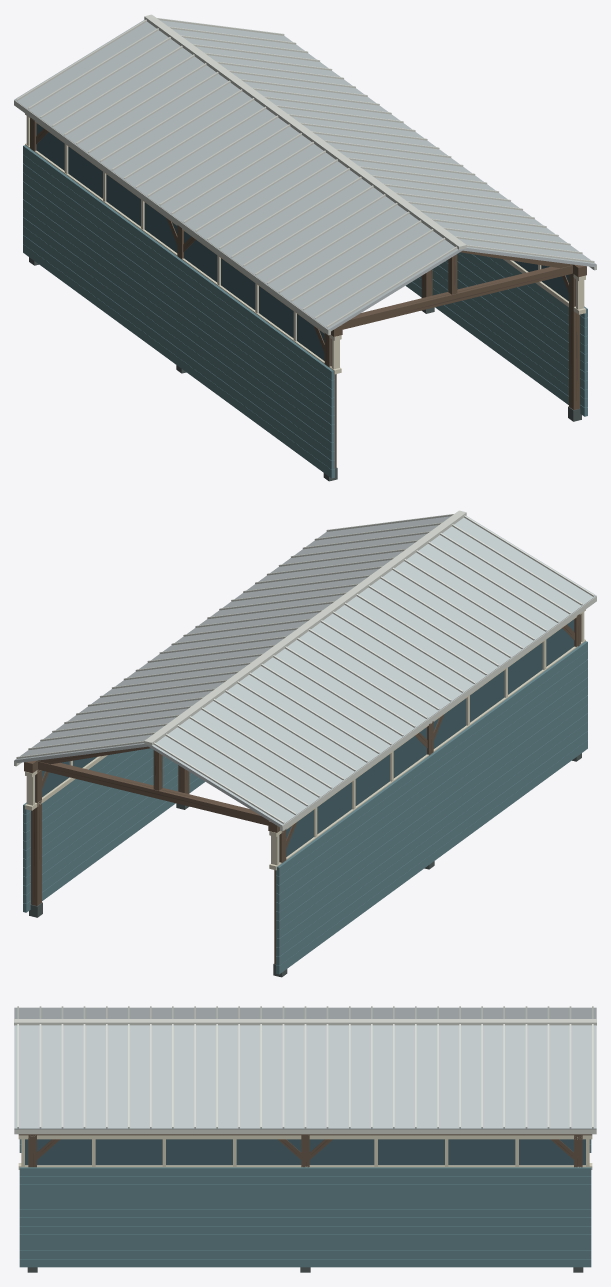
File: boathouse_enclosed.glb
3 views of the same model, one above another, from view 1: azimuth 30°, elevation 25°; view 2: azimuth 150°, elevation 25°; view 3: azimuth 270°, elevation 25° (orthographic). The views are drawn at different scales.
Visible parts, largest first — view 1: boathouse_enclosed; view 2: boathouse_enclosed; view 3: boathouse_enclosed.
Boxes of the visible parts, x1=… form: boathouse_enclosed: x1=14, y1=14, x2=596, y2=481; boathouse_enclosed: x1=14, y1=510, x2=596, y2=977; boathouse_enclosed: x1=14, y1=1006, x2=596, y2=1272.
Bounding box in the file's own units: 5.98 × 4.47 × 12.14.
